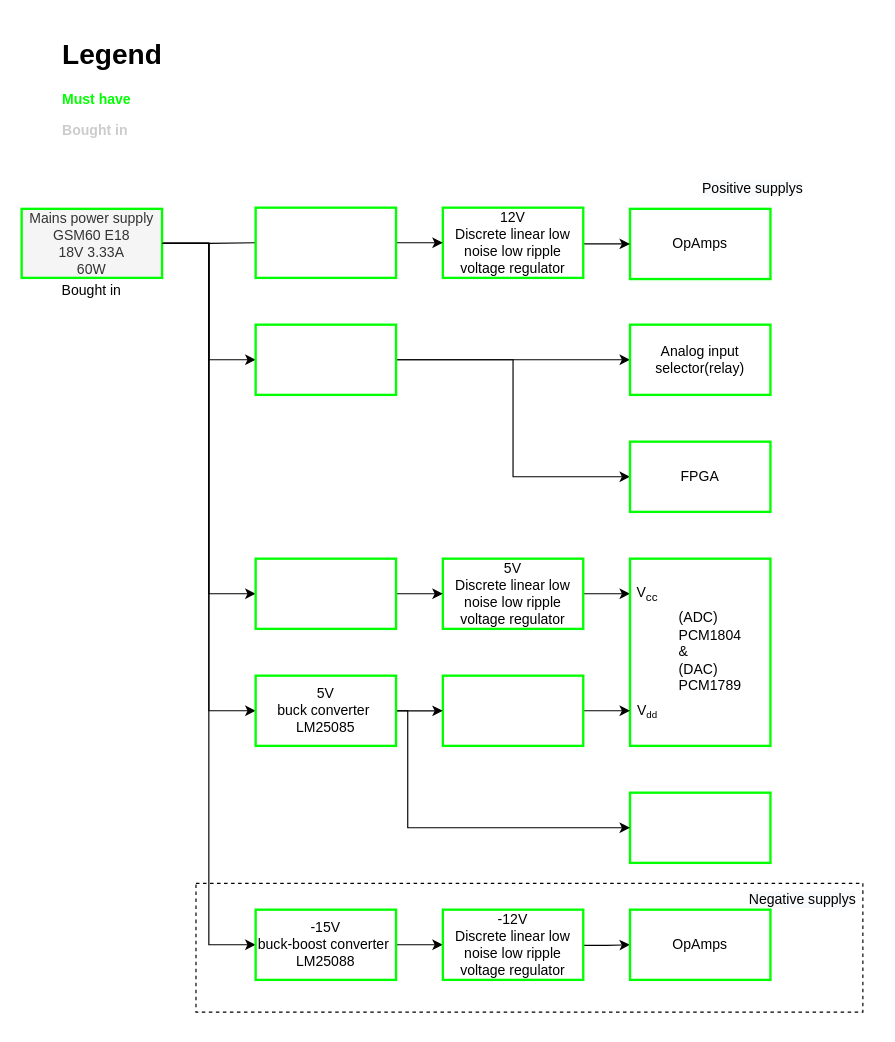
This 895x1042 diagram has some shape labels left out. Each missing label, with the centre of its shape:
12V buck converter LM25085: point (325, 359)
15V buck converter LM25085: point (325, 242)
3.3V LDO LD29150: point (512, 710)
8V buck converter LM25085: point (325, 593)
User interface: point (699, 827)
